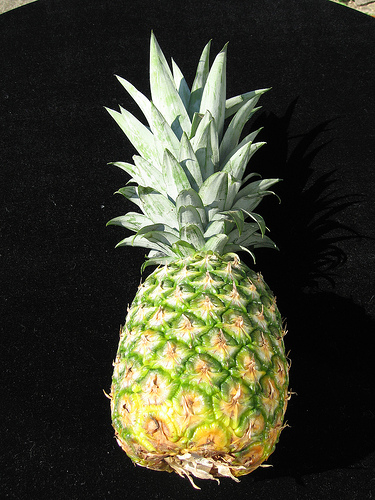pineapple: (102, 27, 296, 492)
